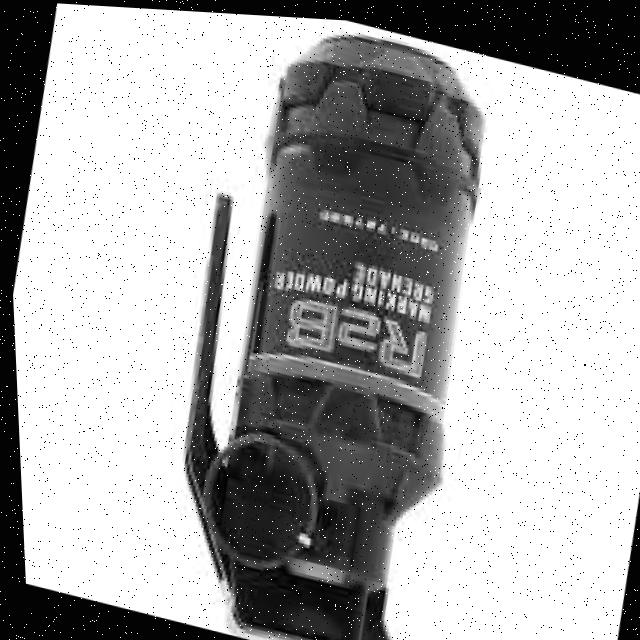grenade: (125, 6, 527, 640)
